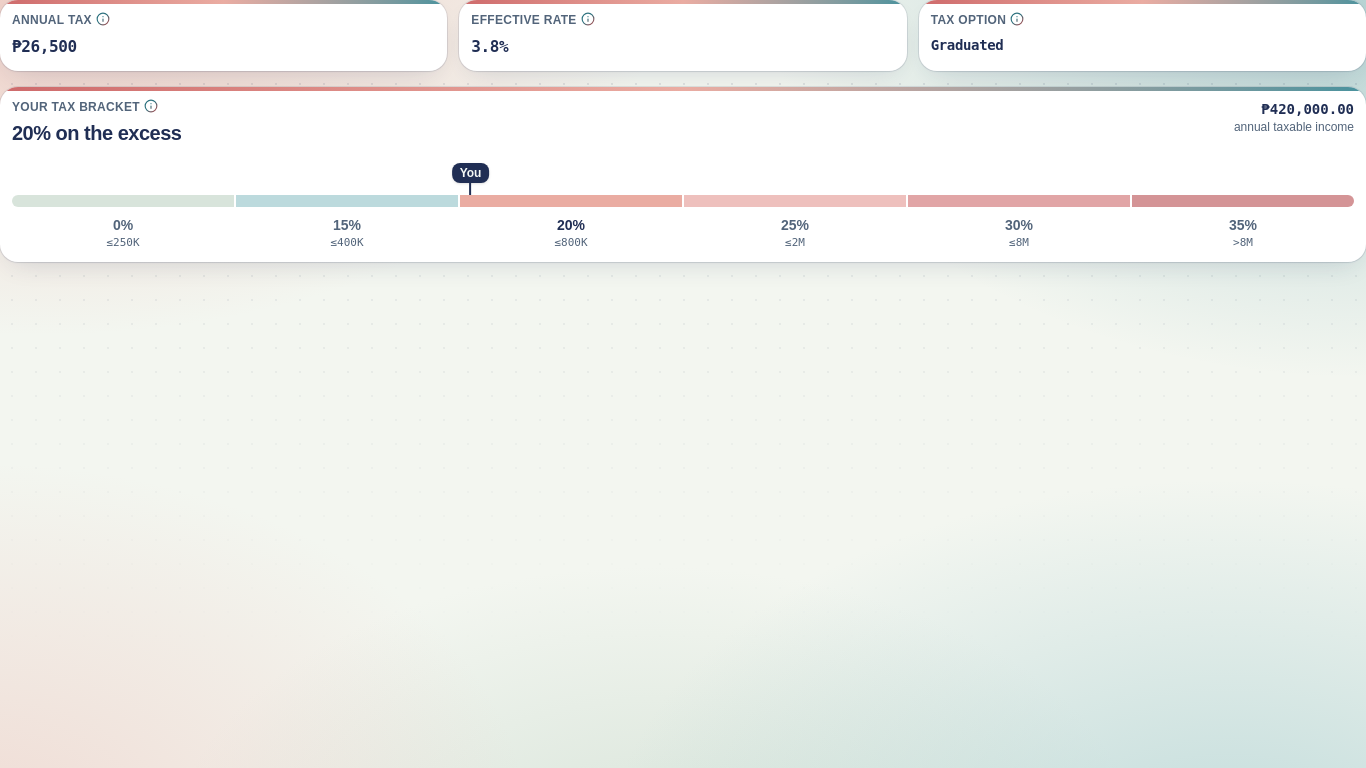
Test: AnnualInsights: business income only › names the graduated rates and places the net income in the table
The width and height of the screenshot is (1366, 768).
Step 1. Click the button named "More about Tax option" → x=1017, y=19, box [1010,12,1024,26]
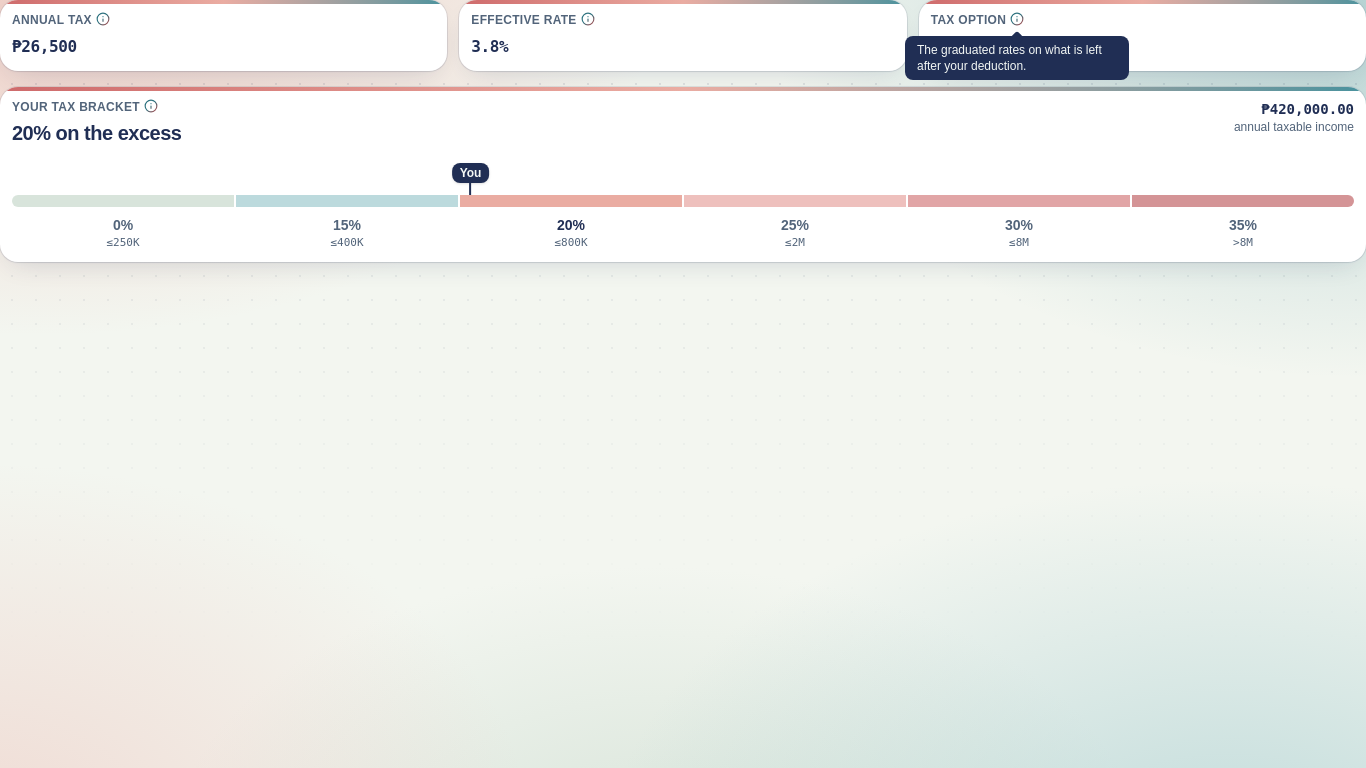
Expected: the text "₱420,000.00" is shown, [1261,100,1354,116]
Expected: the tooltip reads "The graduated rates on what is left after your deduction.", [917,43,1102,73]
